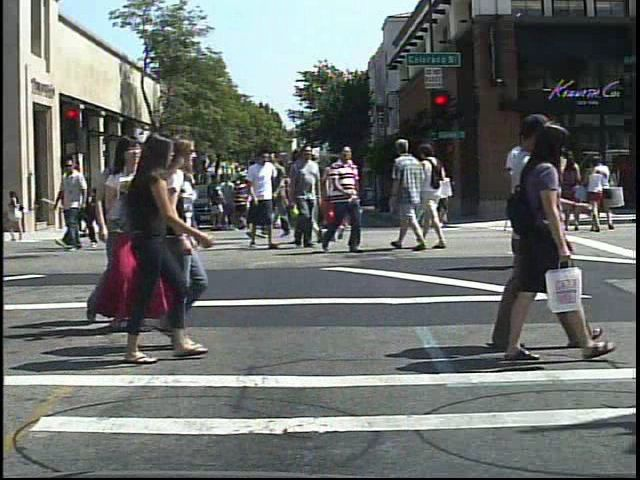person: (480, 107, 603, 357), (492, 114, 607, 362), (162, 135, 237, 353), (101, 131, 180, 337), (115, 129, 182, 370), (95, 131, 142, 336), (492, 125, 550, 269), (320, 141, 369, 256), (291, 142, 332, 250), (391, 134, 427, 255), (286, 142, 323, 251), (246, 144, 281, 256), (424, 136, 456, 250), (328, 147, 360, 248), (131, 157, 166, 244), (535, 154, 563, 238), (229, 167, 251, 236), (63, 183, 83, 233), (186, 153, 187, 253)
